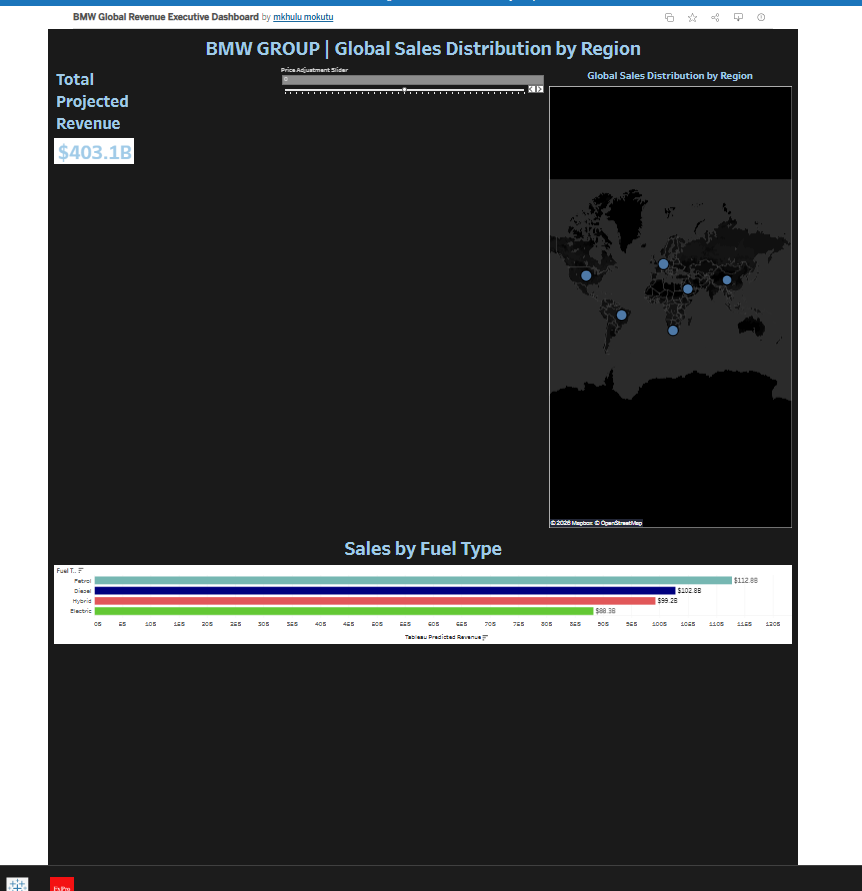

What the dashboard file says about the page in this screenshot:
{"tool":"tableau","page":{"name":"Dashboard 1","canvas":[1000,1000],"units":"permille","ordinal":0},"visuals":[{"type":"title","box":[5.3,4,989.3,36]},{"type":"worksheet","title":"Projected Revenue","mark":"Automatic","box":[5.3,40,302.7,460.7]},{"type":"parameter","param":"[Parameters].[Parameter 1]","box":[308,40,356.9,460.7]},{"type":"worksheet","title":"The Map","mark":"Circle","box":[664.9,40,329.8,460.7]},{"type":"worksheet","title":"The Fuel Type Breakdown","mark":"Automatic","rows":["Fuel_Type"],"cols":["Calculation_0567131070316544"],"box":[5.3,500.7,989.3,495.3]}]}

Visuals, with their boxes on the dashboard's canvas, which has no fixed pixel size, in thousandths of its width and height (x1, y1, x2, y2). These are canvas units, not pixel positions in the 862x891 screenshot, which may show the page scaled, cropped or inside an application window:
title: [5,4,995,40]
"Projected Revenue" worksheet: [5,40,308,501]
parameter: [308,40,665,501]
"The Map" worksheet (Circle marks): [665,40,995,501]
"The Fuel Type Breakdown" worksheet: [5,501,995,996]
